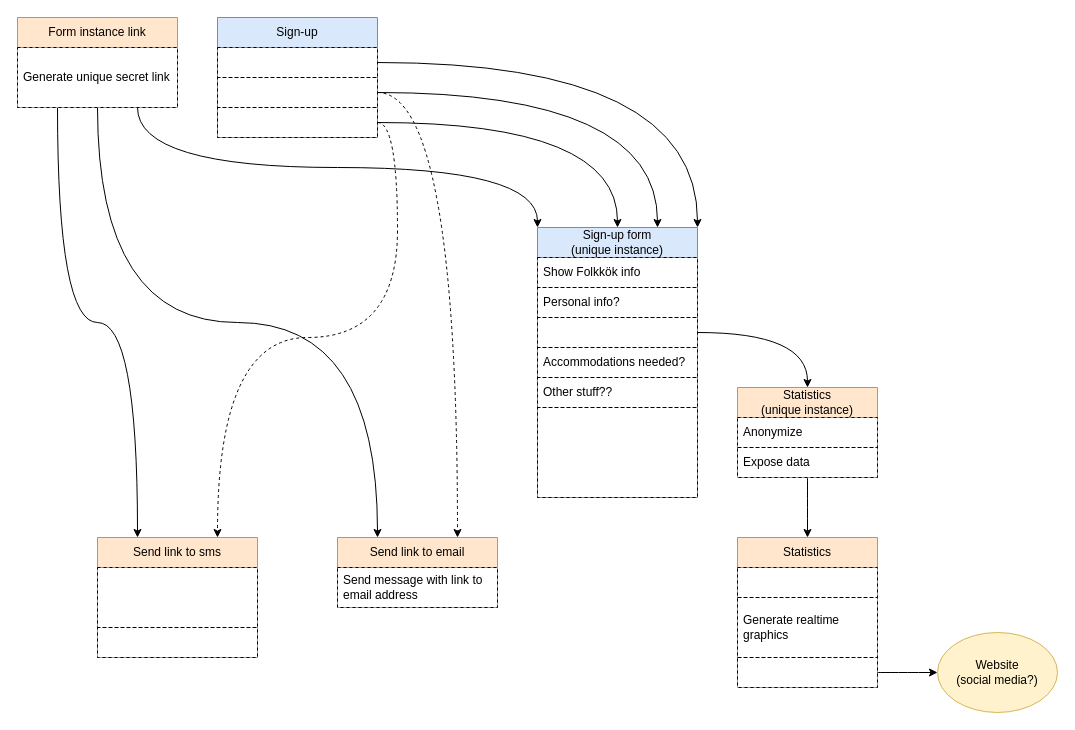
This 1075x730 diagram has some shape labels left out. The centre of each missing label's shape, as x and y in pixels:
"Compile instances" goes at [807,582].
"Guest" goes at [297,62].
"Is this practical?" goes at [177,642].
"Make embeddable" goes at [807,672].
"Send message with link to phone number" goes at [177,597].
"Show link and whether it has been sent to email/phone" goes at [617,452].
"When can you come?" goes at [617,332].
"With email address" goes at [297,92].
"With phone number" goes at [297,122].
